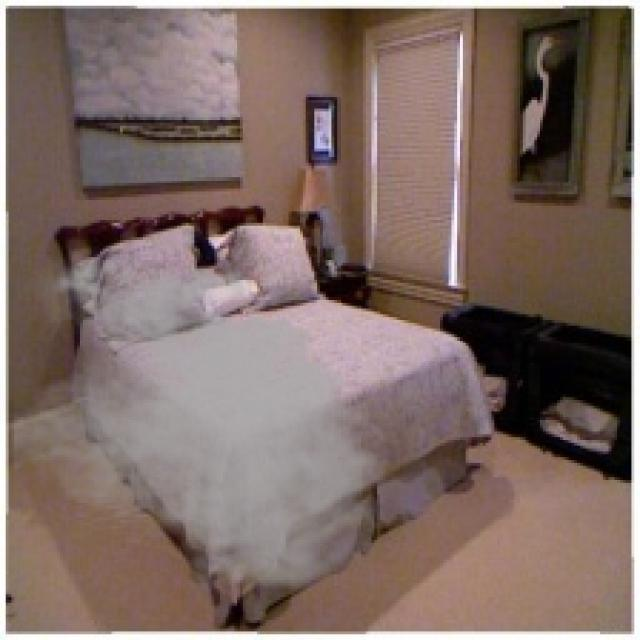Smoke: (9, 245, 398, 598)
